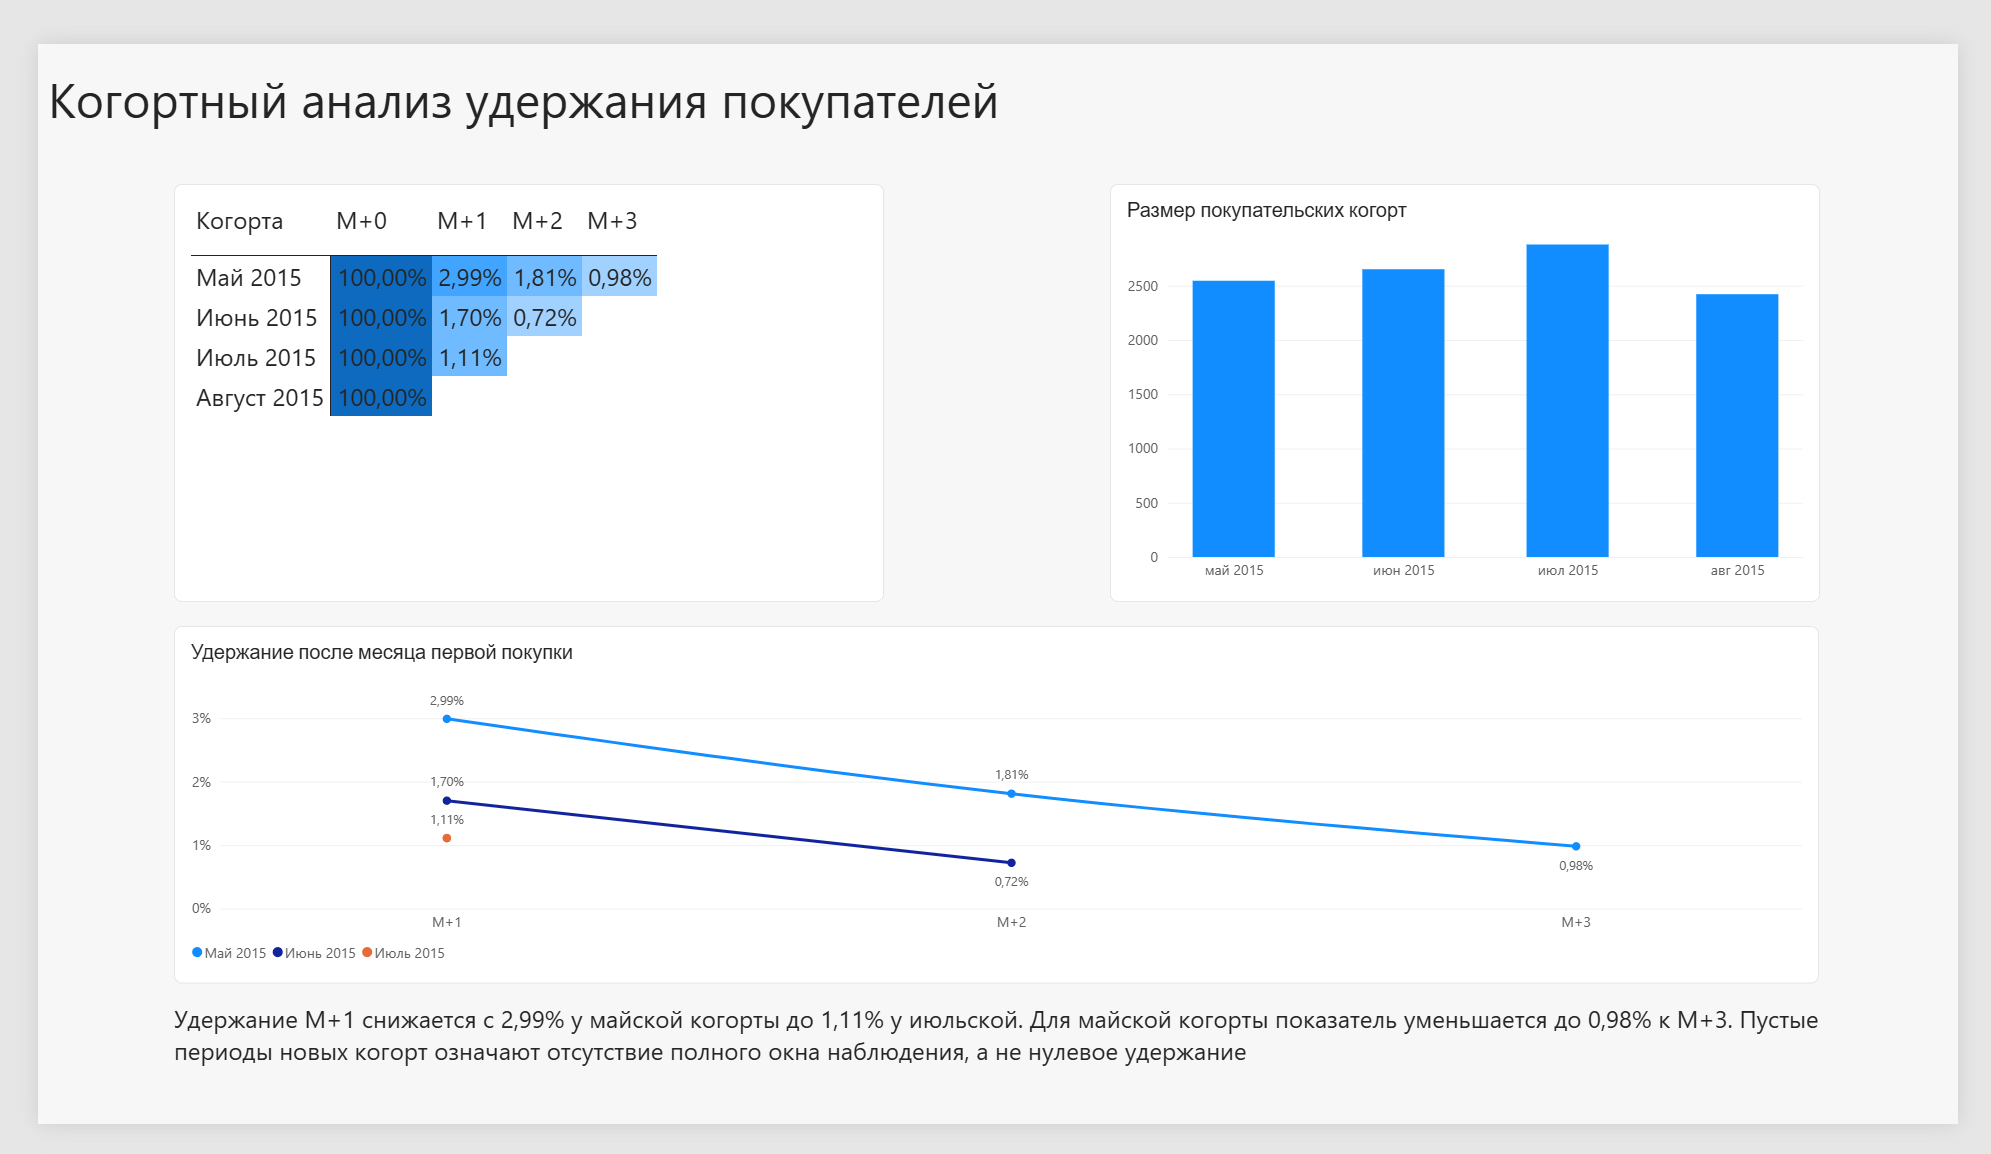

The page's visual inventory and layout, read from the dashboard file:
{"tool":"powerbi","page":{"name":"Retention","canvas":[1920,1080],"ordinal":2},"visuals":[{"type":"textbox","box":[10,22,1256,260],"z":0},{"type":"pivotTable","fields":{"Columns":["Cohort Retention.cohort_period"],"Rows":["Cohort Retention.cohort_month"],"Values":["Sum(Cohort Retention.retention_rate)"]},"box":[136,140,710,418],"z":1000},{"type":"lineChart","title":"Удержание после месяца первой покупки","fields":{"Category":["Cohort Retention.cohort_period"],"Series":["Cohort Retention.cohort_month"],"Y":["Avg(Cohort Retention.retention_rate)"]},"box":[135,582.5,1645,357.5],"z":2000},{"type":"columnChart","title":"Размер покупательских когорт","fields":{"Category":["Cohort Retention.cohort_month"],"Y":["Max(Cohort Retention.cohort_size)"]},"box":[1072,140,710,418],"z":3000},{"type":"textbox","box":[136,958,1646,96],"z":4000}]}

Visuals, with their boxes in screenshot pixels (x1, y1, x2, y2), scaled from the page's 1920x1080 canvas onto the 1991x1154 screenshot:
textbox: <box>10,24,1313,301</box>
pivotTable - Cohort Retention.cohort_period x Cohort Retention.cohort_month: <box>141,150,877,596</box>
"Удержание после месяца первой покупки" lineChart: <box>140,622,1846,1004</box>
"Размер покупательских когорт" columnChart: <box>1112,150,1848,596</box>
textbox: <box>141,1024,1848,1126</box>
